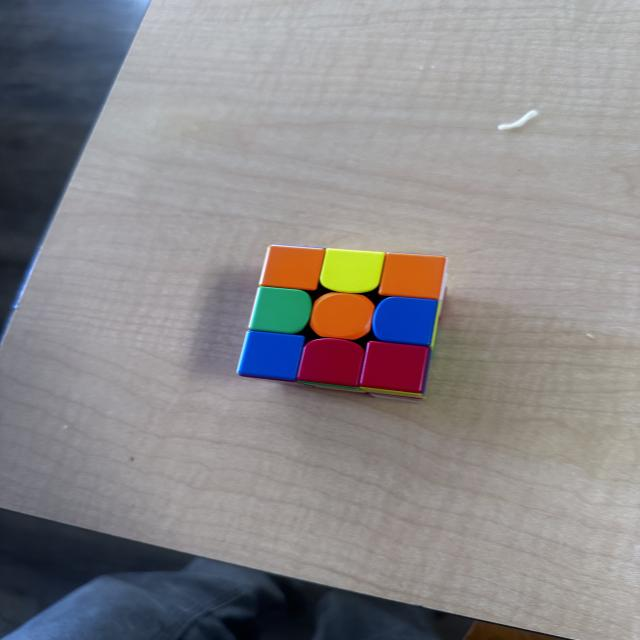sticker: (356, 339, 432, 399), (294, 336, 368, 392), (237, 330, 306, 383), (370, 296, 439, 348), (378, 251, 448, 302), (308, 292, 376, 341), (248, 286, 314, 336), (260, 244, 326, 293), (318, 248, 385, 295)
